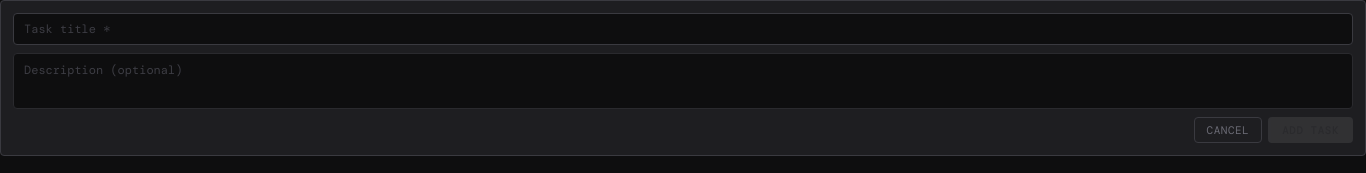
Test: AddTaskForm › enables Add button when title has content
The width and height of the screenshot is (1366, 173).
Type "Hello" into the field labelled "Task title *" at (683, 29), box top-left (13, 13), bottom-right (1353, 45)
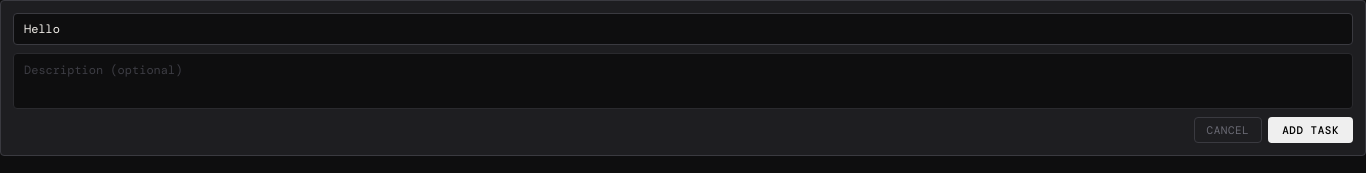
Expected: the button "Add Task" is enabled, top-left (1268, 117), bottom-right (1353, 143)
